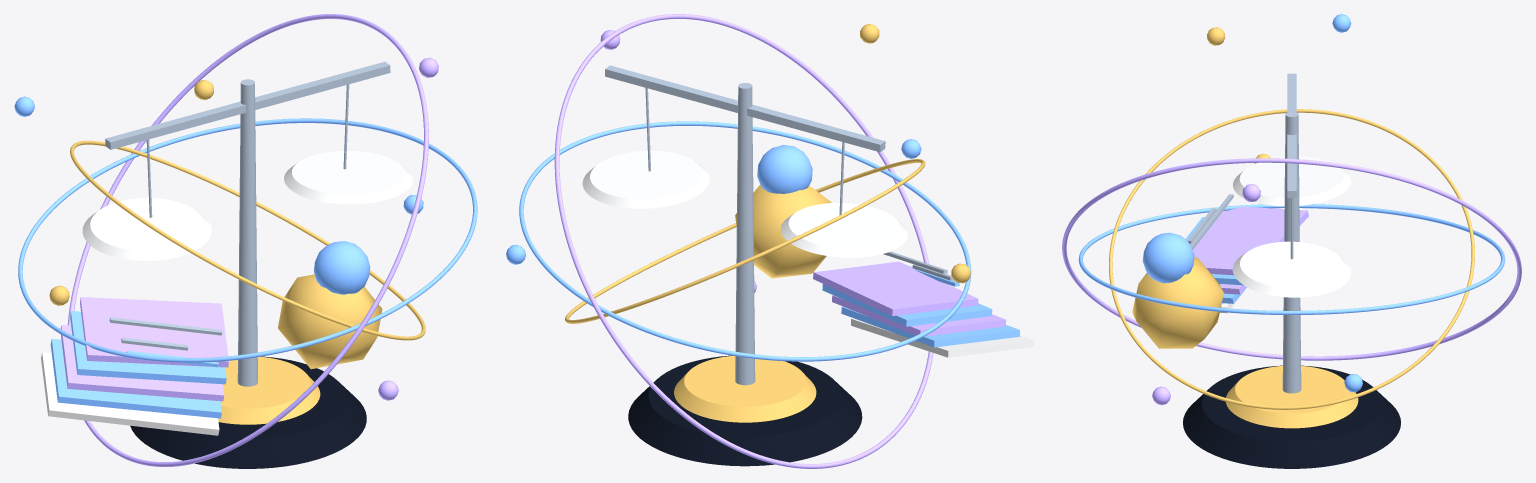
Rendered from mizan-cinematic-core.glb.
3 views of the same model, side by side, from view 1: azimuth 30°, elevation 25°; view 2: azimuth 150°, elevation 25°; view 3: azimuth 270°, elevation 25° (orthographic). The views are drawn at different scales.
Visible parts, largest first — view 1: base_disc_outer, evidence_plate_5, left_pan, orbit_ring_b, verdict_core, orbit_ring_a, right_pan, central_spine, base_disc_inner, crossbar, evidence_plate_1, evidence_plate_2 (+5 smaller); view 2: base_disc_outer, base_disc_inner, orbit_ring_b, right_pan, orbit_ring_a, left_pan, evidence_plate_5, central_spine, verdict_core, crossbar, orbit_ring_c, agent_core_inner (+4 smaller); view 3: base_disc_outer, base_disc_inner, verdict_core, right_pan, orbit_ring_b, orbit_ring_c, orbit_ring_a, evidence_plate_5, left_pan, central_spine, agent_core_inner, crossbar.
Part boxes in pixels (x1,y1,x2,y2): base_disc_outer: (130, 356, 366, 468); evidence_plate_5: (80, 297, 228, 367); left_pan: (82, 198, 211, 260); orbit_ring_b: (67, 14, 428, 466); verdict_core: (278, 274, 382, 369); orbit_ring_a: (18, 118, 477, 362); right_pan: (284, 151, 413, 204); central_spine: (237, 79, 257, 386); base_disc_inner: (218, 356, 320, 424); crossbar: (105, 61, 390, 149); evidence_plate_1: (41, 352, 219, 435); evidence_plate_2: (50, 338, 221, 418); base_disc_outer: (628, 355, 862, 466); base_disc_inner: (674, 356, 816, 422); orbit_ring_b: (554, 14, 933, 468); right_pan: (582, 150, 709, 208); orbit_ring_a: (519, 121, 971, 361); left_pan: (780, 203, 907, 257); evidence_plate_5: (813, 261, 978, 315); central_spine: (735, 83, 755, 385); verdict_core: (735, 185, 831, 278); crossbar: (605, 65, 885, 152); orbit_ring_c: (565, 159, 925, 323); agent_core_inner: (757, 145, 812, 193); base_disc_outer: (1183, 365, 1400, 468); base_disc_inner: (1226, 366, 1358, 428); verdict_core: (1132, 257, 1223, 348); right_pan: (1232, 241, 1350, 297); orbit_ring_b: (1062, 158, 1521, 360); orbit_ring_c: (1109, 109, 1474, 409); orbit_ring_a: (1078, 204, 1505, 314); evidence_plate_5: (1190, 205, 1308, 275); left_pan: (1233, 156, 1351, 206); central_spine: (1282, 111, 1301, 393); agent_core_inner: (1142, 232, 1194, 283); crossbar: (1287, 73, 1296, 197).
Size of the model in its own units: 4.06 by 3.32 by 3.88.
